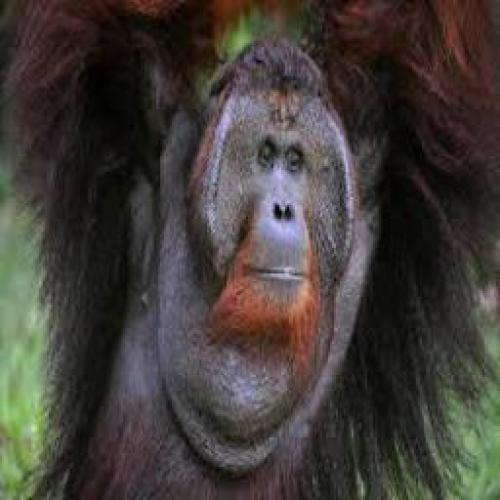orangutan-endangered: (15, 6, 488, 489)
